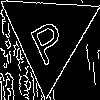P: (23, 10, 70, 67)
